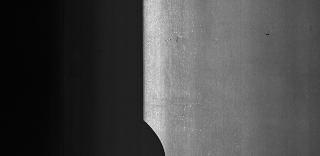inclusion: (264, 32, 270, 38)
rolled pit: (162, 30, 182, 46)
